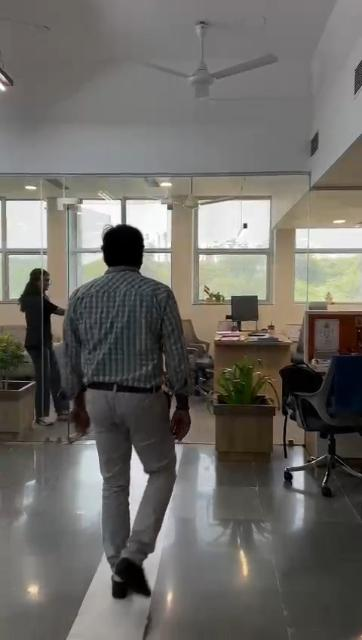floor: (0, 441, 362, 639)
moving-obj: (23, 249, 227, 597), (0, 282, 94, 422)
object: (284, 337, 362, 495), (214, 362, 280, 472), (0, 335, 38, 429), (180, 312, 220, 398), (225, 294, 267, 334)
wall: (273, 194, 299, 332), (44, 198, 76, 298), (173, 206, 195, 310)
